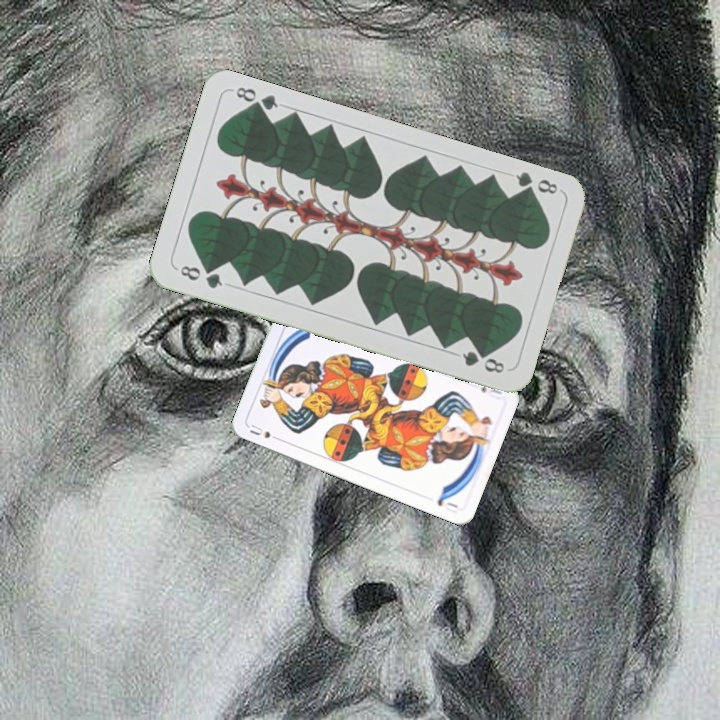G8: (511, 167, 560, 200), (173, 261, 225, 291)
SU: (246, 420, 284, 443), (477, 382, 505, 402)
